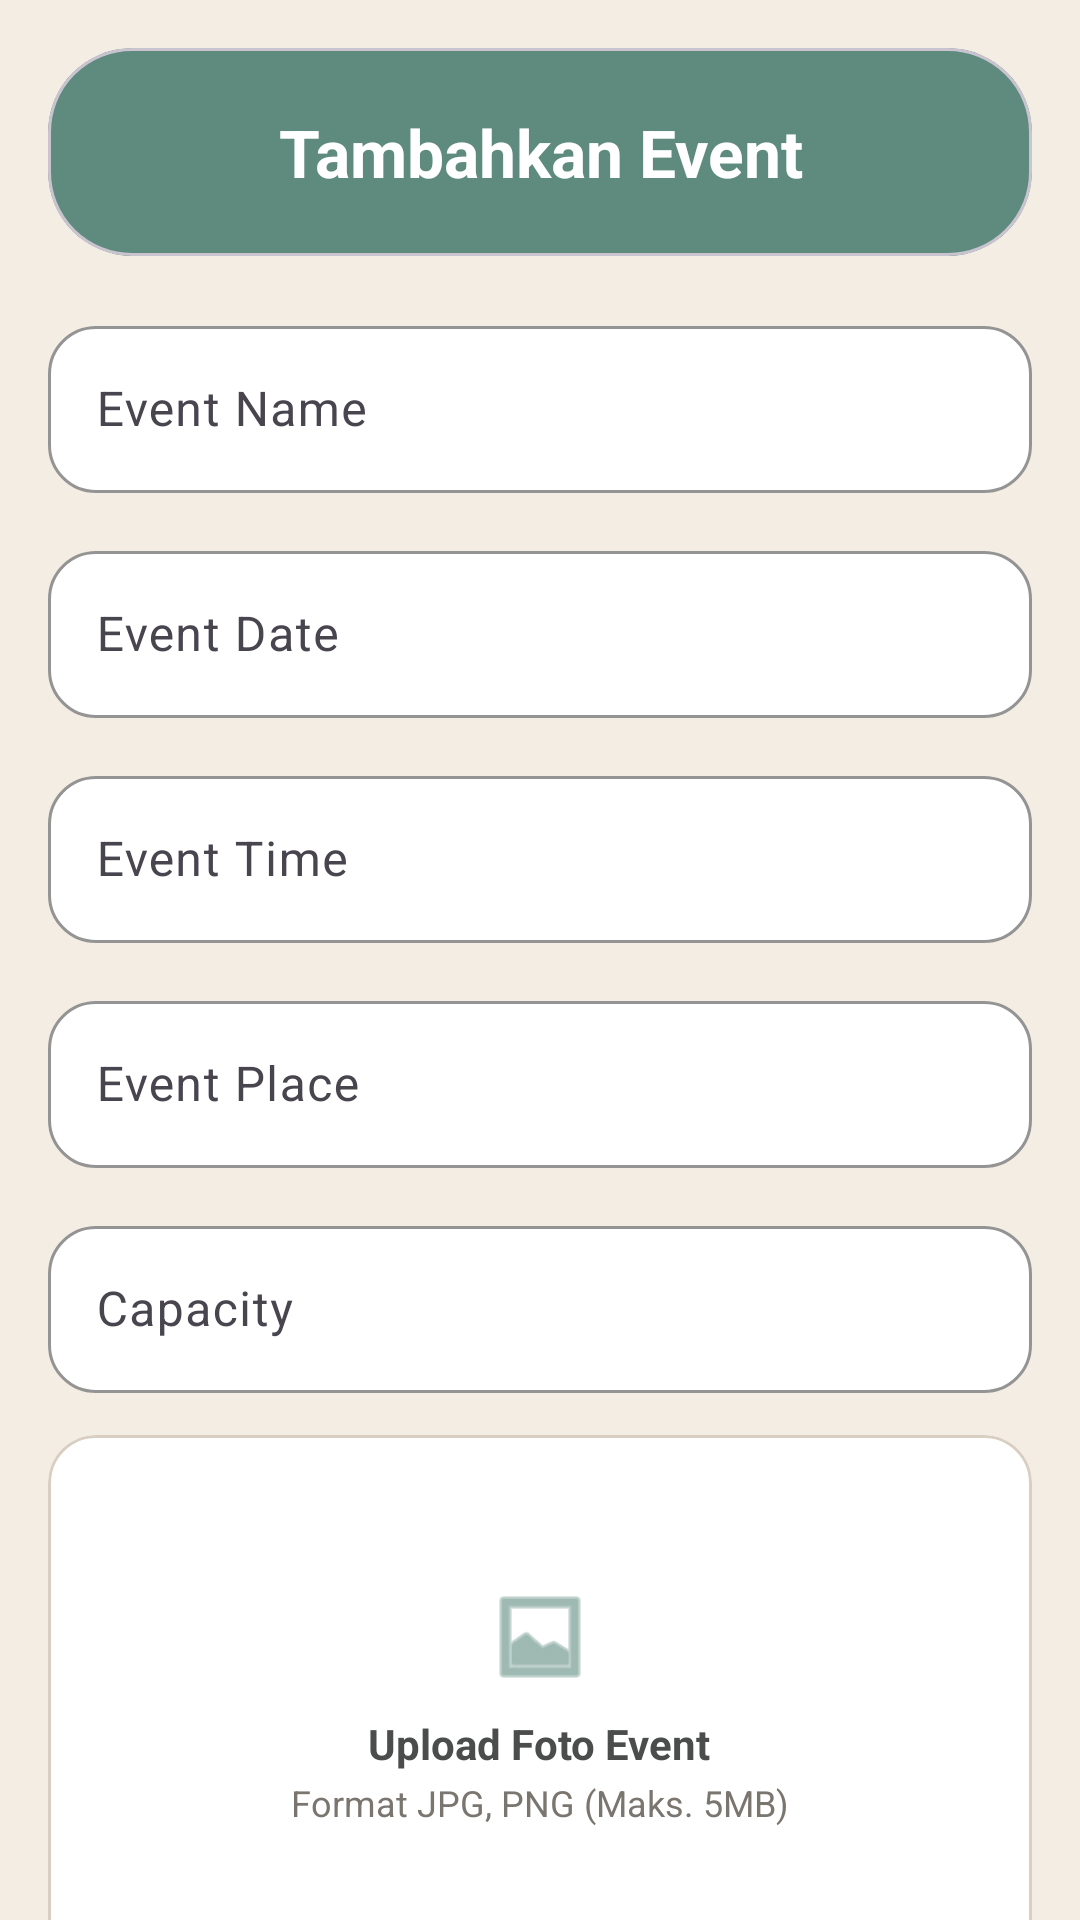

Point at icon controls on the screen. Image size 1080px x 1920px, points as (x,y).
gallery: (540,1637)
